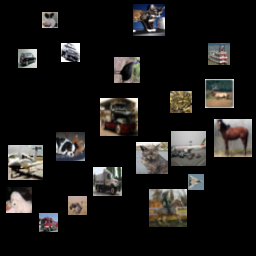airplane: (105, 15, 143, 53), (61, 214, 83, 236)
automobile: (209, 57, 244, 92), (214, 164, 246, 196), (49, 164, 81, 196)
bird: (84, 115, 119, 150)
cat: (5, 9, 43, 47), (111, 64, 146, 99), (135, 182, 167, 214), (143, 125, 172, 154), (168, 167, 194, 193)
deer: (183, 198, 221, 236), (148, 56, 174, 82), (54, 55, 76, 77)
dog: (87, 188, 116, 217), (75, 79, 101, 105)
frog: (16, 208, 54, 246), (15, 148, 37, 170), (163, 34, 182, 53)
